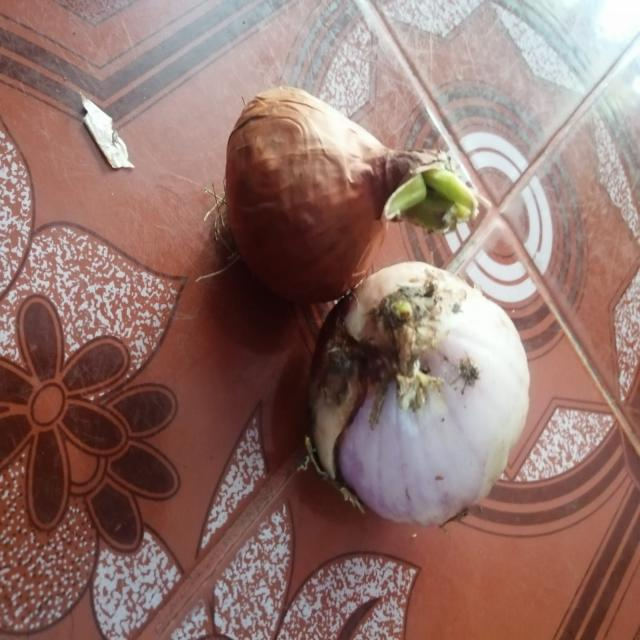sprouting: (308, 321, 370, 403), (384, 168, 461, 231), (388, 298, 413, 318)
